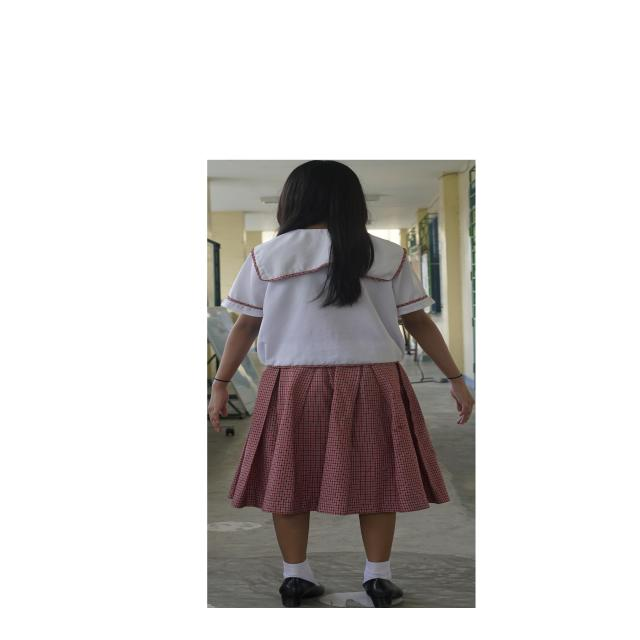pologirl: (223, 229, 430, 366)
shoes: (279, 577, 324, 607), (363, 578, 403, 608)
skirt: (229, 362, 449, 515)
